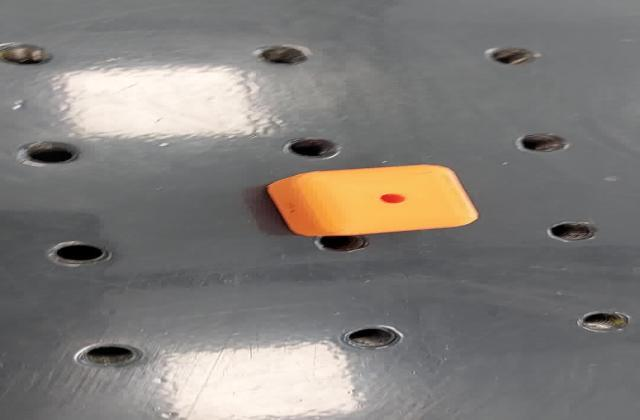cube: (259, 160, 489, 246)
